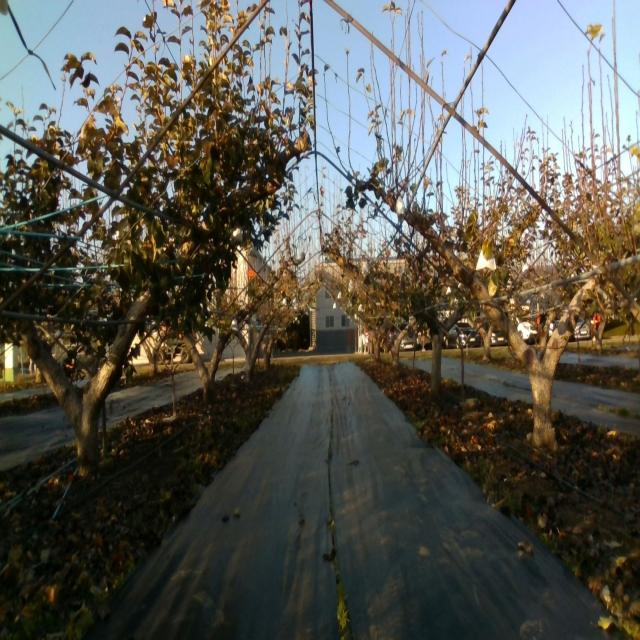pearbags: (476, 250, 497, 272), (230, 220, 243, 243), (396, 198, 406, 224)
